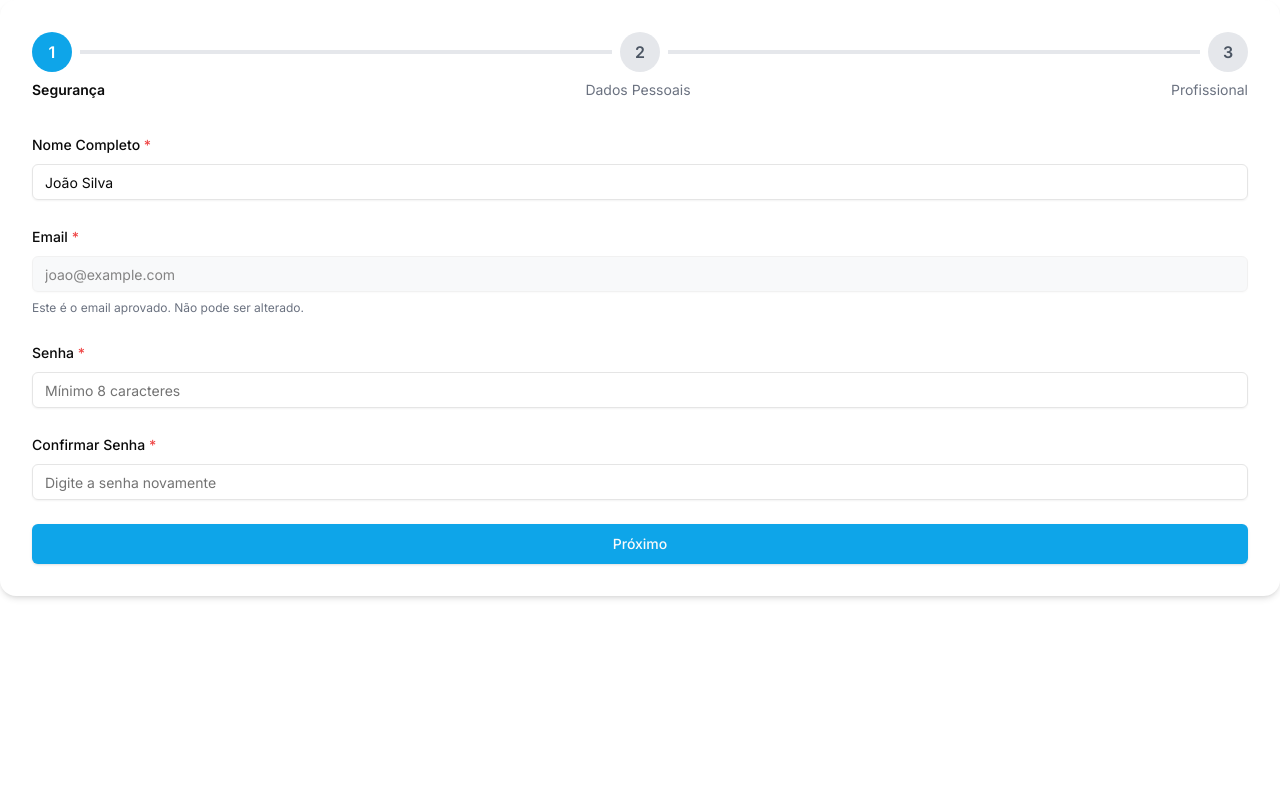
Test: CompleteRegistrationForm › should render step 2 (Personal Data) fields
Type "password123" into the password field labelled "Senha *" at (640, 390), box [32,372,1248,408]
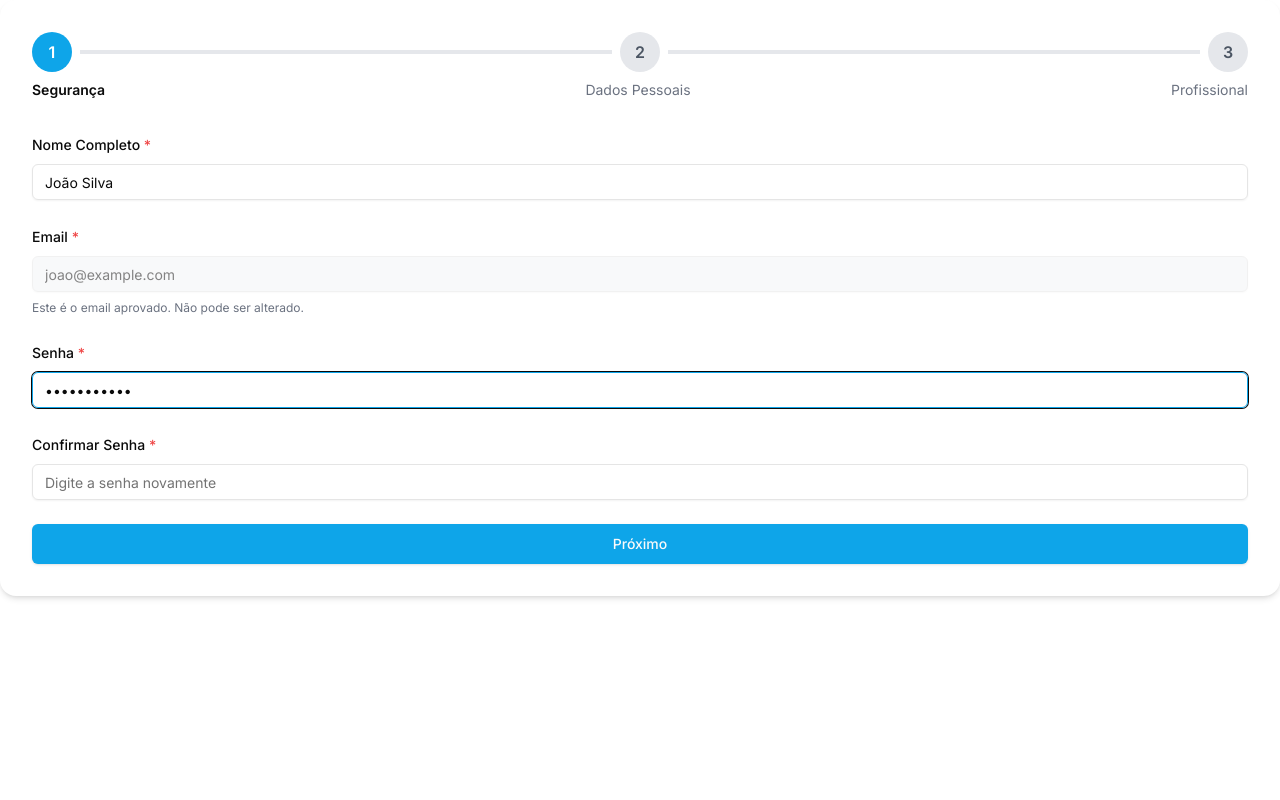
Type "password123" into the password field with id "confirmPassword" at (640, 482), box [32,464,1248,500]
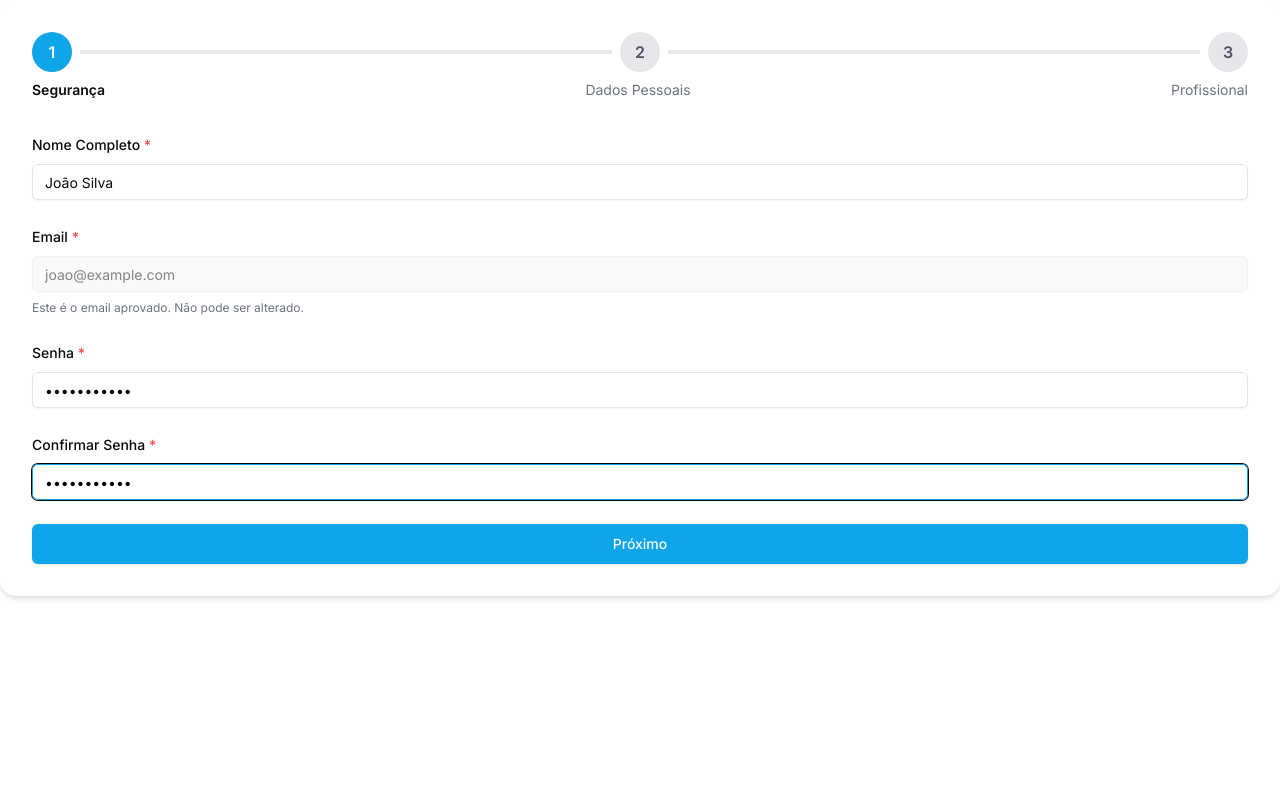
Click the button "Próximo" at (640, 544), box [32,524,1248,564]
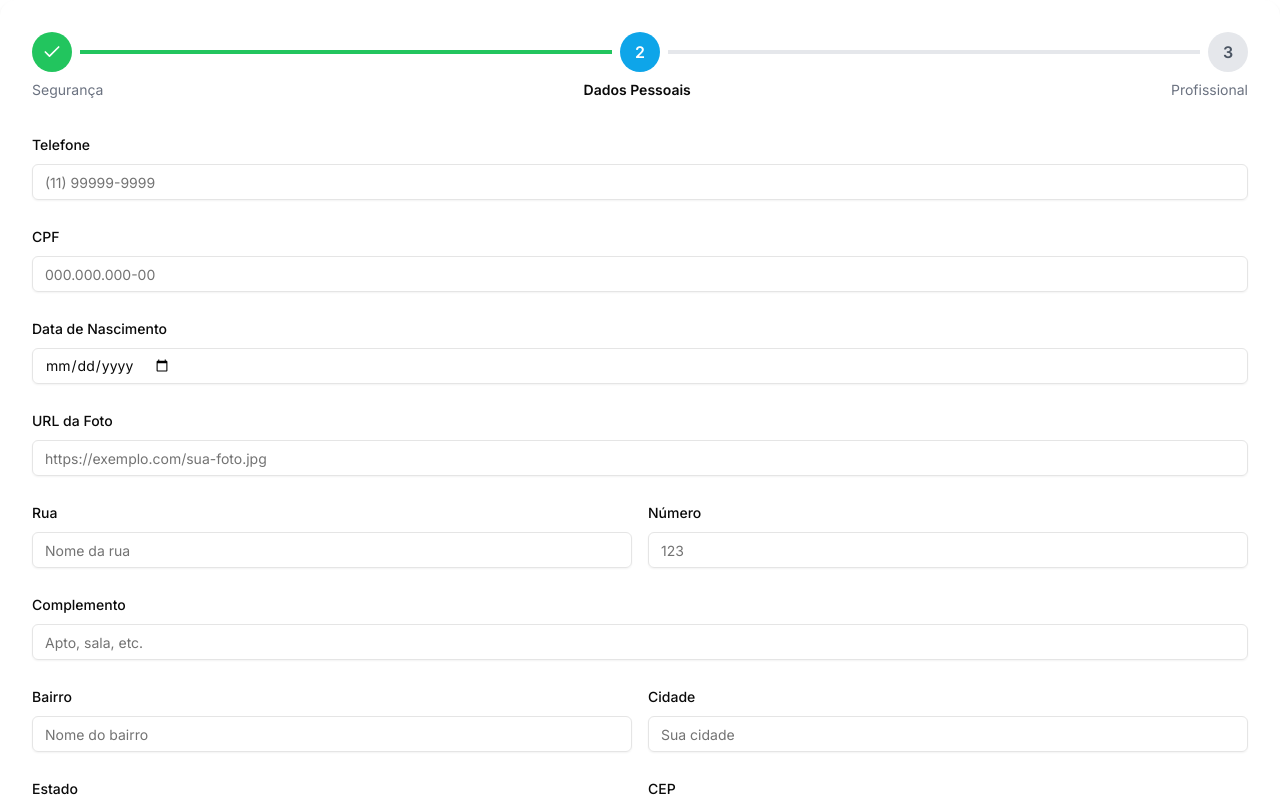
Check: the text "Dados Pessoais" is shown, box [584,80,691,100]
Check: the field labelled "Telefone" is shown, box [32,164,1248,200]
Check: the field labelled "CPF" is shown, box [32,256,1248,292]
